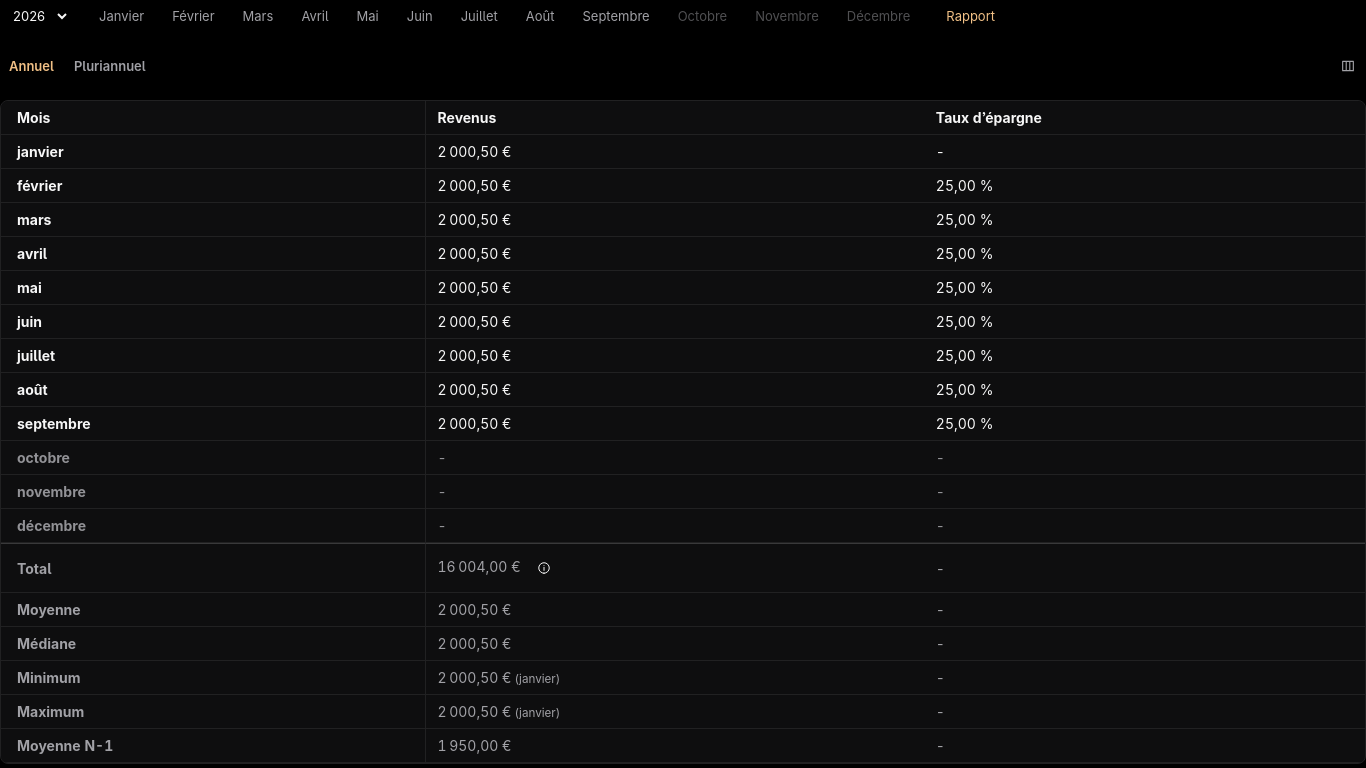
Test: AnnualReportPage › limits the column picker to 40 columns
Click the button named "colonnes": (1348, 66) [1330, 48, 1365, 84]
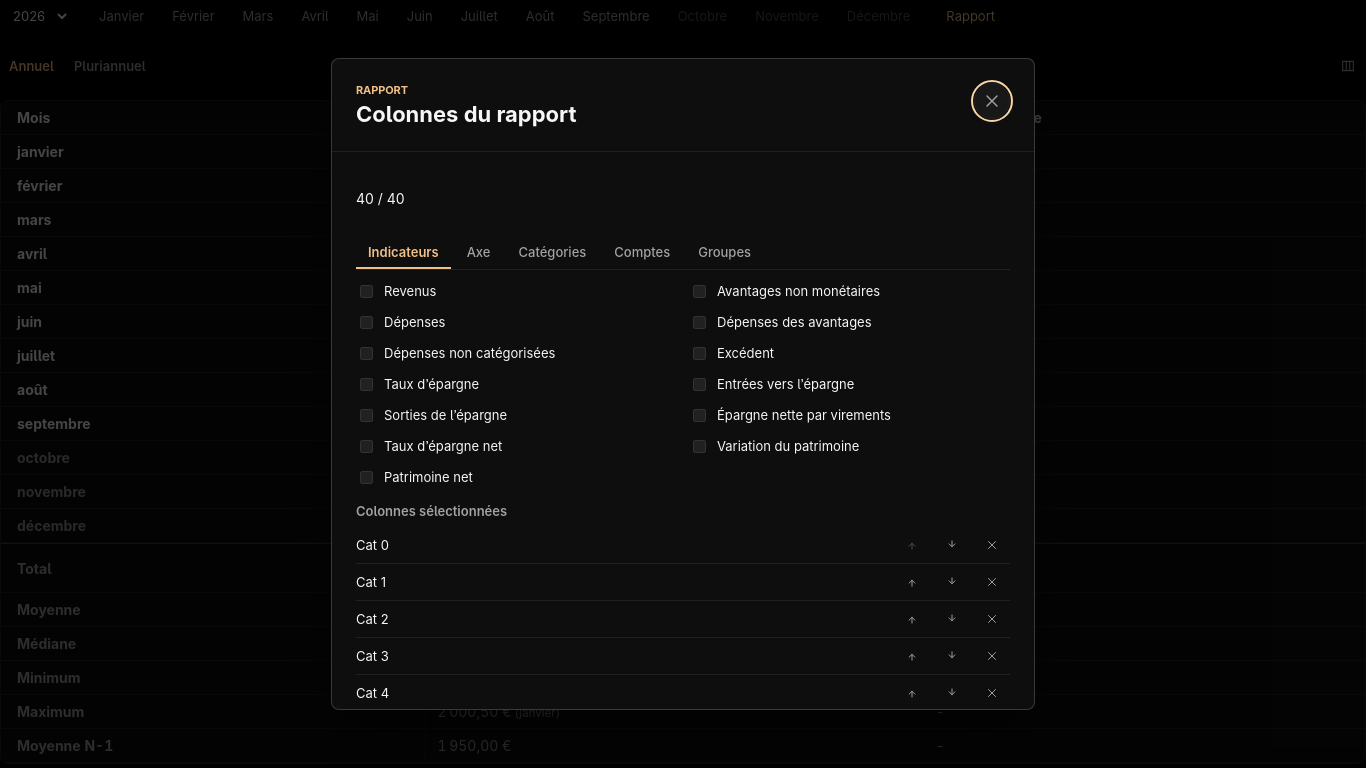
Expected: the text "40 / 40" is shown, [356, 190, 405, 207]
